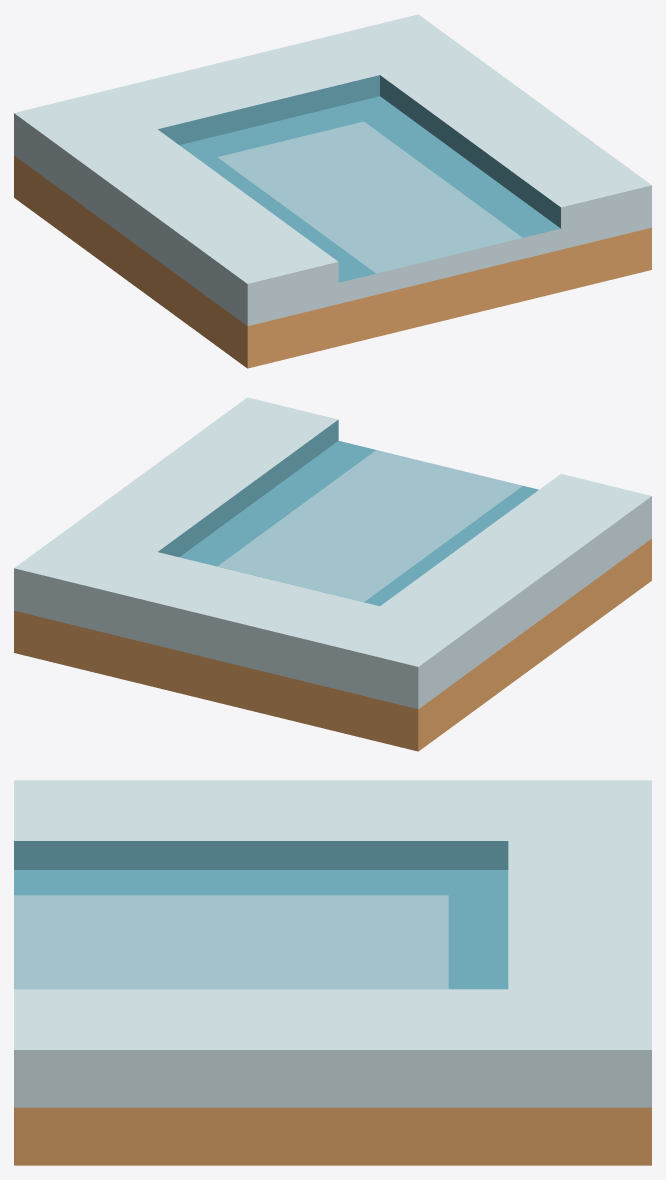
The model's file is snow_tile_end.dae.
3 renders of one model, top to bottom at view 1: azimuth 30°, elevation 25°; view 2: azimuth 150°, elevation 25°; view 3: azimuth 270°, elevation 25°, orthographic. The views are drawn at different scales.
Visible parts, largest first — view 1: snow_tile_end; view 2: snow_tile_end; view 3: snow_tile_end.
Part boxes in pixels (x1,y1,x2,y2): snow_tile_end: [14, 14, 651, 368]; snow_tile_end: [14, 397, 651, 751]; snow_tile_end: [14, 780, 651, 1165].
Bounding box in the file's own units: 1 × 0.2 × 1.
